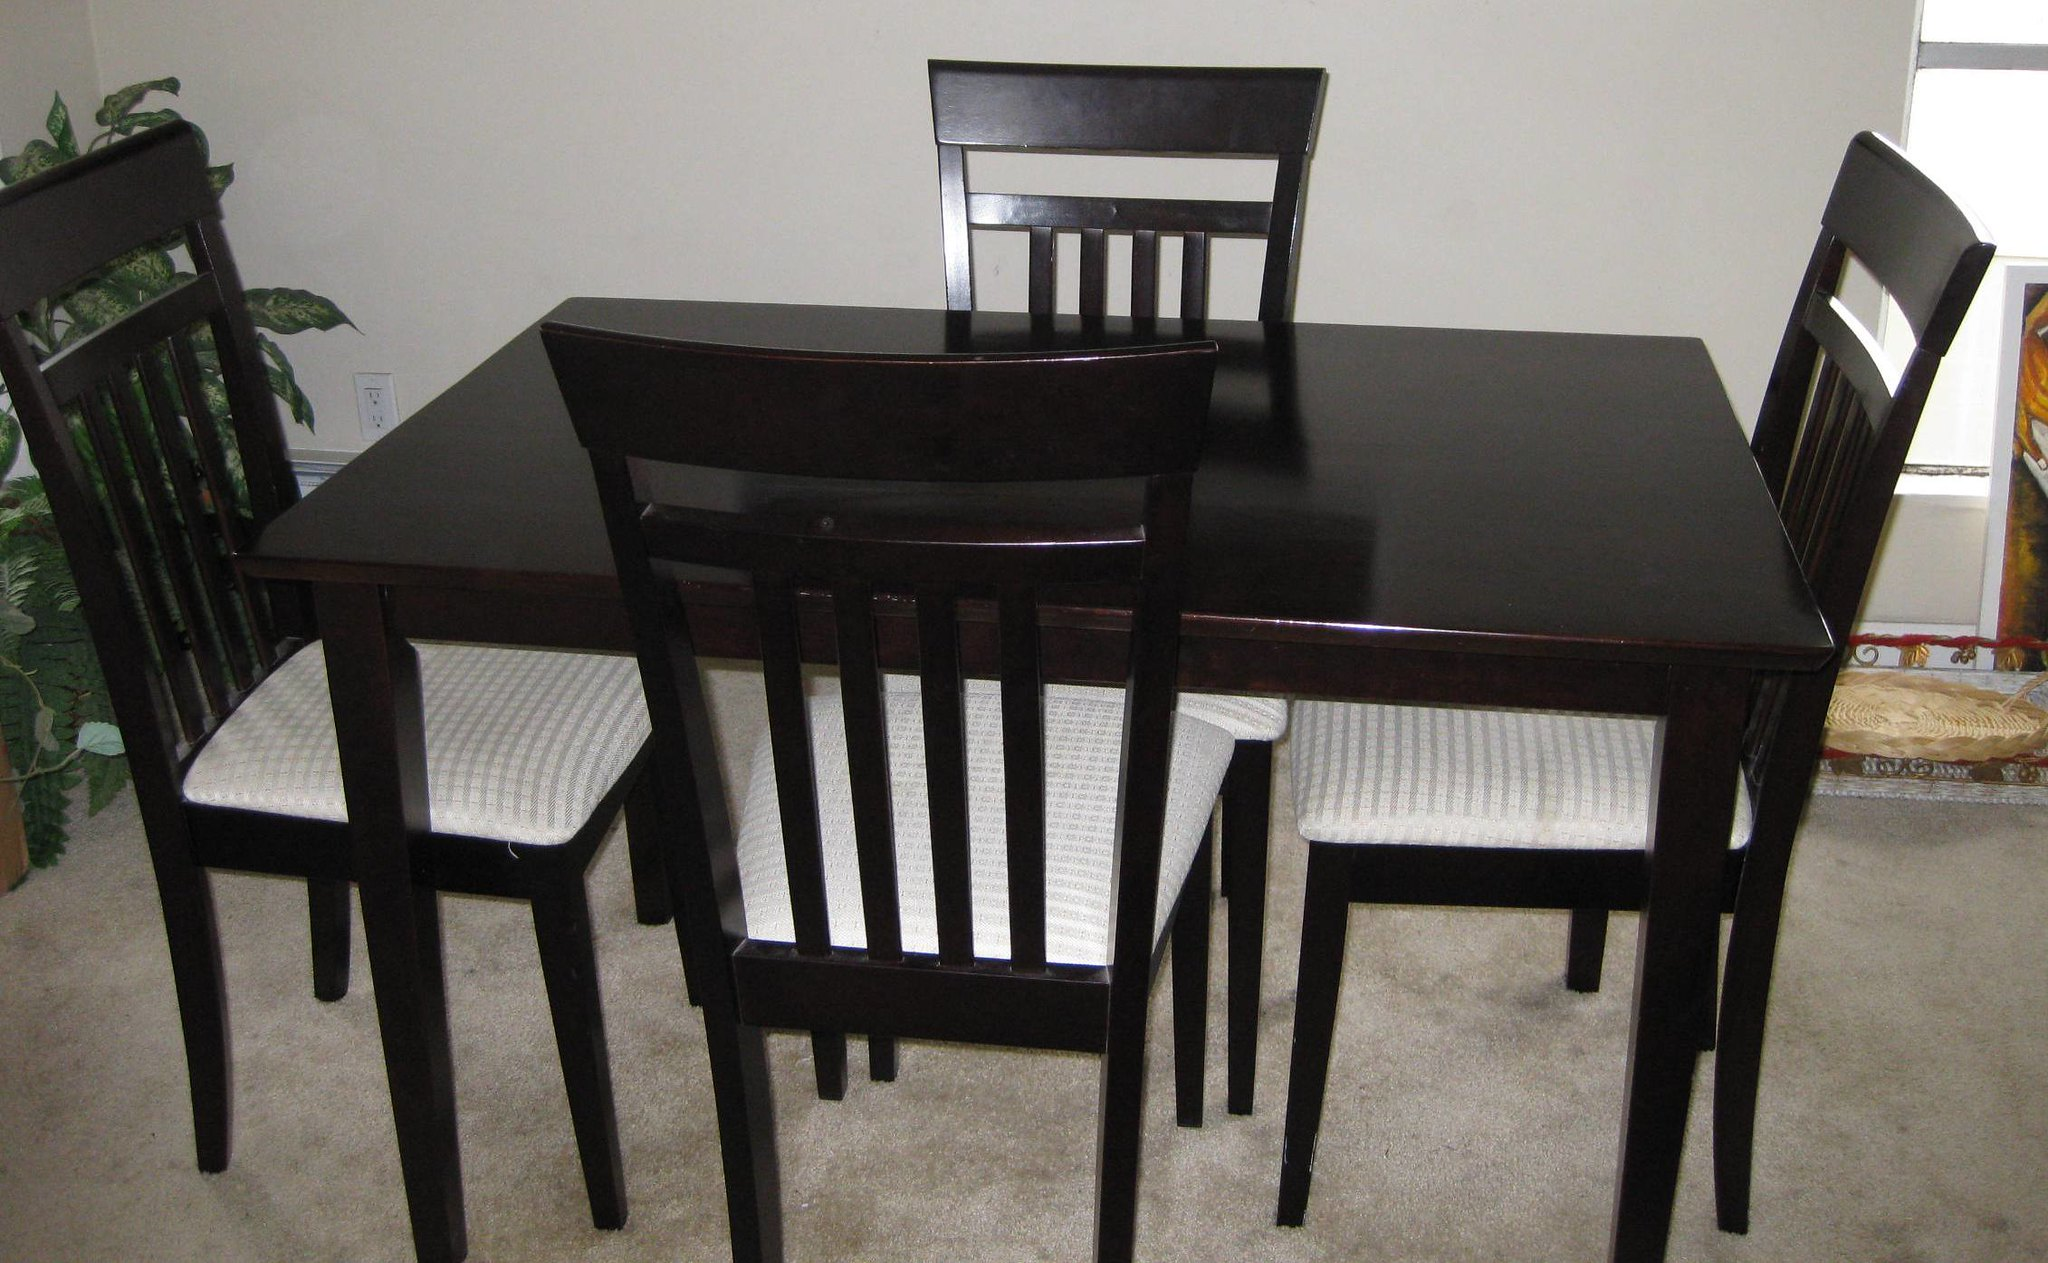chair: (540, 307, 1299, 1229), (12, 110, 641, 1194)
dining table: (268, 239, 1758, 1240)
